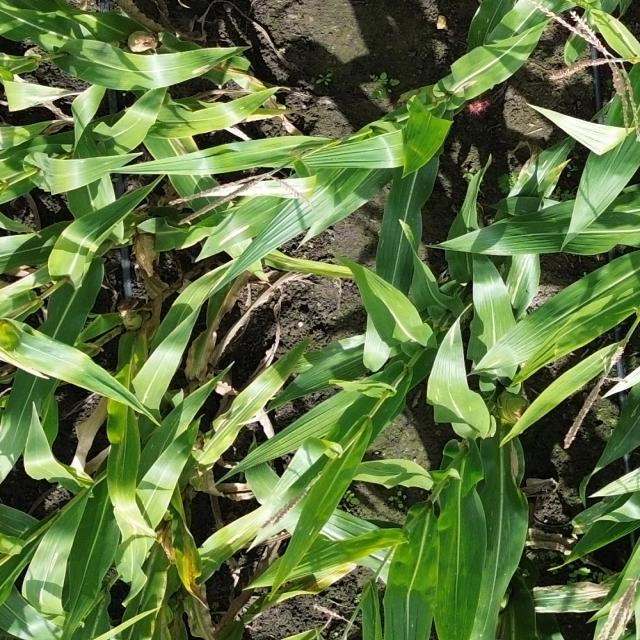gray-leaf-spot: (540, 582, 616, 616), (213, 393, 256, 436), (37, 539, 70, 578), (580, 500, 624, 526), (472, 9, 500, 41)
northern-leaf-blight: (170, 515, 203, 575), (167, 133, 208, 178), (214, 218, 256, 250)
southern-leaf-blight: (31, 333, 83, 365), (159, 403, 194, 436)
